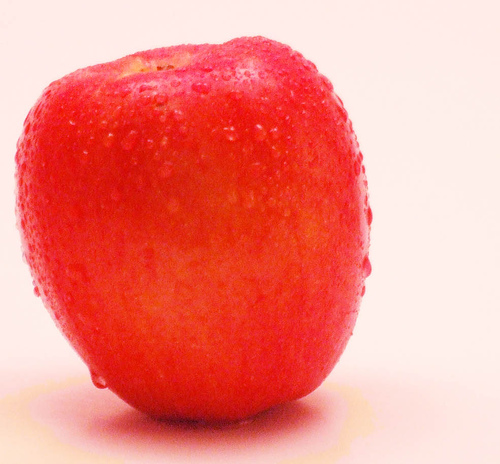apple: (12, 30, 375, 428)
